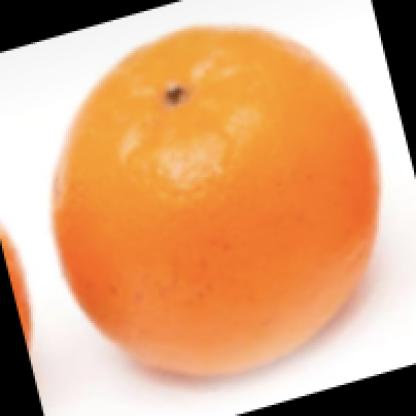fresh: (55, 25, 379, 379)
